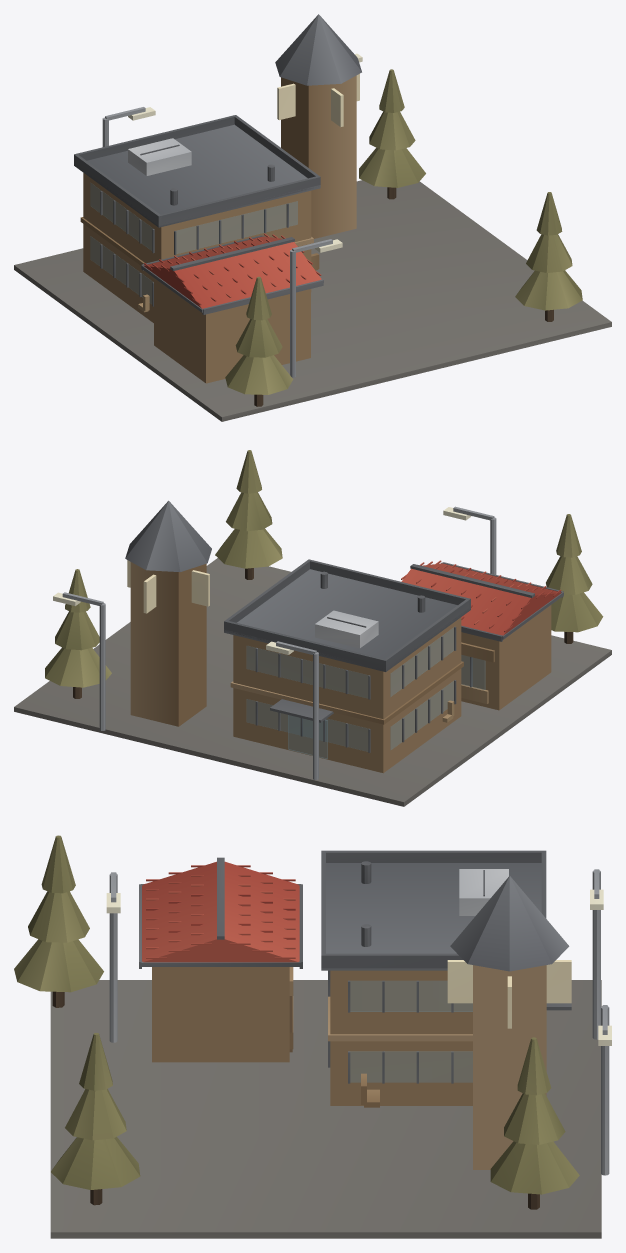
File: Civic_P1.fbx
3 renders of one model, top to bottom at view 1: azimuth 30°, elevation 25°; view 2: azimuth 150°, elevation 25°; view 3: azimuth 270°, elevation 25°, orthographic. The views are drawn at different scales.
Visible parts, largest first — view 1: Civic.Plaza, Civic.Hall, Civic.Shop0, Civic.Tower, Civic.Tree2, Civic.Tree0, Civic.Tree1, Civic.Lamp0, Civic.Lamp2; view 2: Civic.Hall, Civic.Plaza, Civic.Tower, Civic.Shop0, Civic.Tree1, Civic.Tree0, Civic.Tree2, Civic.Lamp1, Civic.Lamp2, Civic.Lamp0; view 3: Civic.Plaza, Civic.Hall, Civic.Shop0, Civic.Tower, Civic.Tree2, Civic.Tree0, Civic.Tree1, Civic.Lamp0, Civic.Lamp1, Civic.Lamp2.
Boxes of the visible parts, <box> form: Civic.Plaza: <box>14,180,611,421</box>; Civic.Hall: <box>74,115,320,322</box>; Civic.Shop0: <box>141,233,323,383</box>; Civic.Tower: <box>275,14,361,238</box>; Civic.Tree2: <box>225,276,293,406</box>; Civic.Tree0: <box>359,69,425,199</box>; Civic.Tree1: <box>515,192,582,321</box>; Civic.Lamp0: <box>290,239,342,377</box>; Civic.Lamp2: <box>102,107,155,146</box>; Civic.Hall: <box>224,559,470,773</box>; Civic.Plaza: <box>14,558,611,806</box>; Civic.Tower: <box>125,500,211,726</box>; Civic.Shop0: <box>401,560,563,710</box>; Civic.Tree1: <box>215,450,282,579</box>; Civic.Tree0: <box>45,569,111,698</box>; Civic.Tree2: <box>546,514,603,643</box>; Civic.Lamp1: <box>53,592,105,730</box>; Civic.Lamp2: <box>266,641,318,779</box>; Civic.Lamp0: <box>443,506,496,574</box>; Civic.Plaza: <box>50,980,601,1238</box>; Civic.Hall: <box>321,850,571,1105</box>; Civic.Shop0: <box>139,857,302,1062</box>; Civic.Tower: <box>447,876,571,1169</box>; Civic.Tree2: <box>14,835,103,1007</box>; Civic.Tree0: <box>490,1037,579,1209</box>; Civic.Tree1: <box>51,1033,140,1205</box>; Civic.Lamp0: <box>106,872,120,1042</box>; Civic.Lamp1: <box>598,1005,611,1175</box>; Civic.Lamp2: <box>590,869,603,1039</box>.
Bounding box in the file's own units: 2600 × 1371 × 2604.
